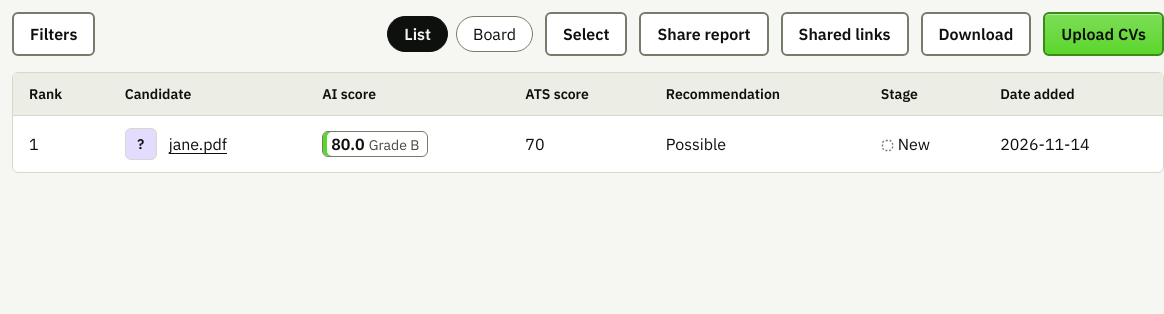
Scenario: comparison links › puts Select in the toolbar only when there are candidates to select
Click the button "Select". click: (586, 34)
box: [545, 12, 628, 56]
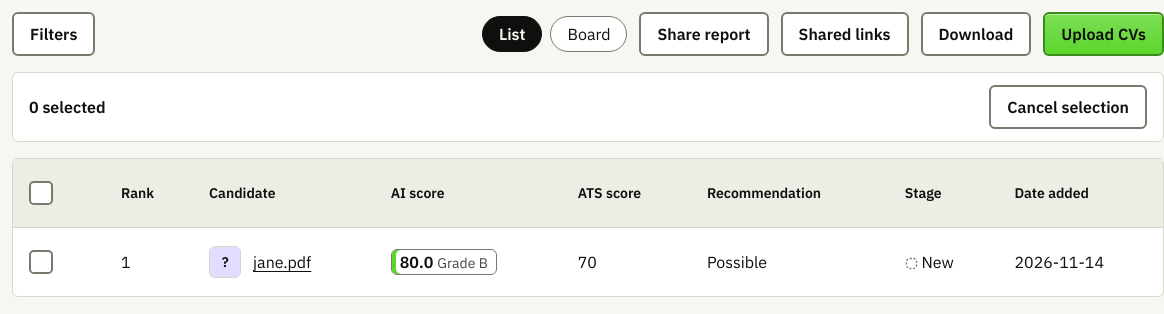
Now the button "Cancel selection" is shown, box [989, 85, 1147, 129]
